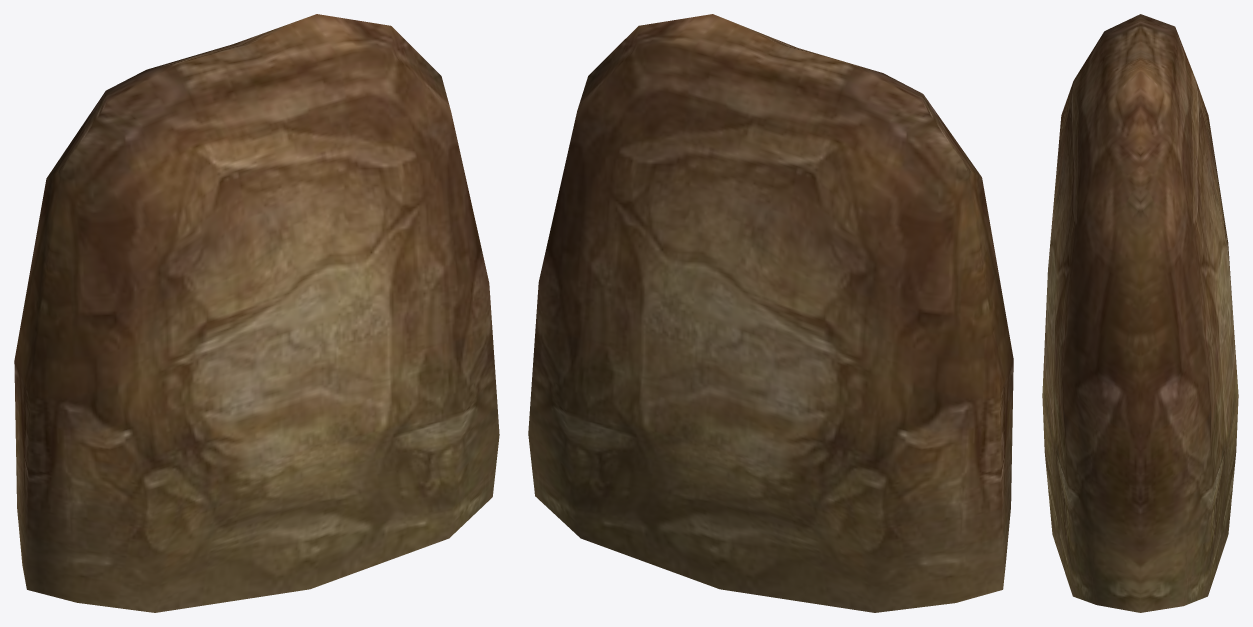
The model's file is bagh_petra_event_stone01.glb.
3 views of the same model, side by side, from view 1: azimuth 30°, elevation 25°; view 2: azimuth 150°, elevation 25°; view 3: azimuth 270°, elevation 25° (orthographic). The views are drawn at different scales.
Visible parts, largest first — view 1: res\bldg\arabia\bagh_petra\bagh_petra_event_stone01.bsr; view 2: res\bldg\arabia\bagh_petra\bagh_petra_event_stone01.bsr; view 3: res\bldg\arabia\bagh_petra\bagh_petra_event_stone01.bsr.
Part boxes in pixels (x1,y1,x2,y2): res\bldg\arabia\bagh_petra\bagh_petra_event_stone01.bsr: (14,14,499,612); res\bldg\arabia\bagh_petra\bagh_petra_event_stone01.bsr: (528,14,1013,612); res\bldg\arabia\bagh_petra\bagh_petra_event_stone01.bsr: (1042,14,1238,612).
Bounding box in the file's own units: 238 × 258 × 94.2.
1 material, 1 textured.
